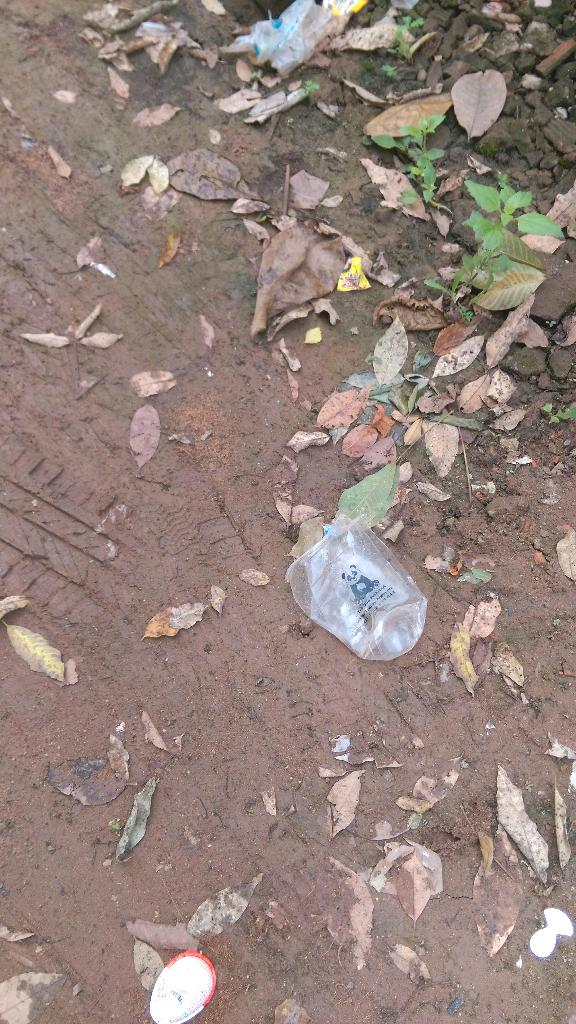garbage: (246, 488, 454, 706), (286, 515, 427, 660)
